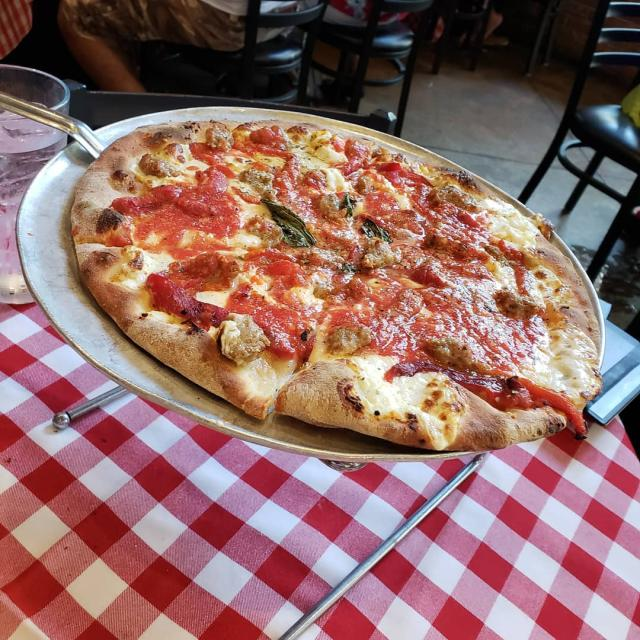basil: (257, 197, 318, 249), (359, 217, 394, 243), (340, 192, 356, 217), (339, 260, 360, 274)
pizza: (69, 116, 605, 455)
